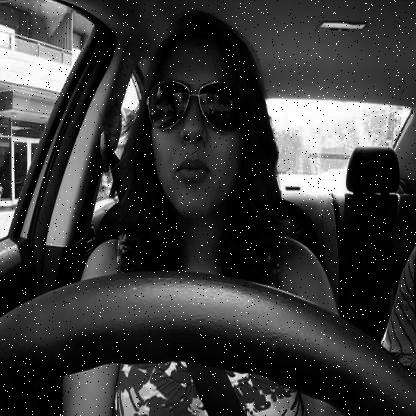seatbelt: (92, 9, 268, 416)
